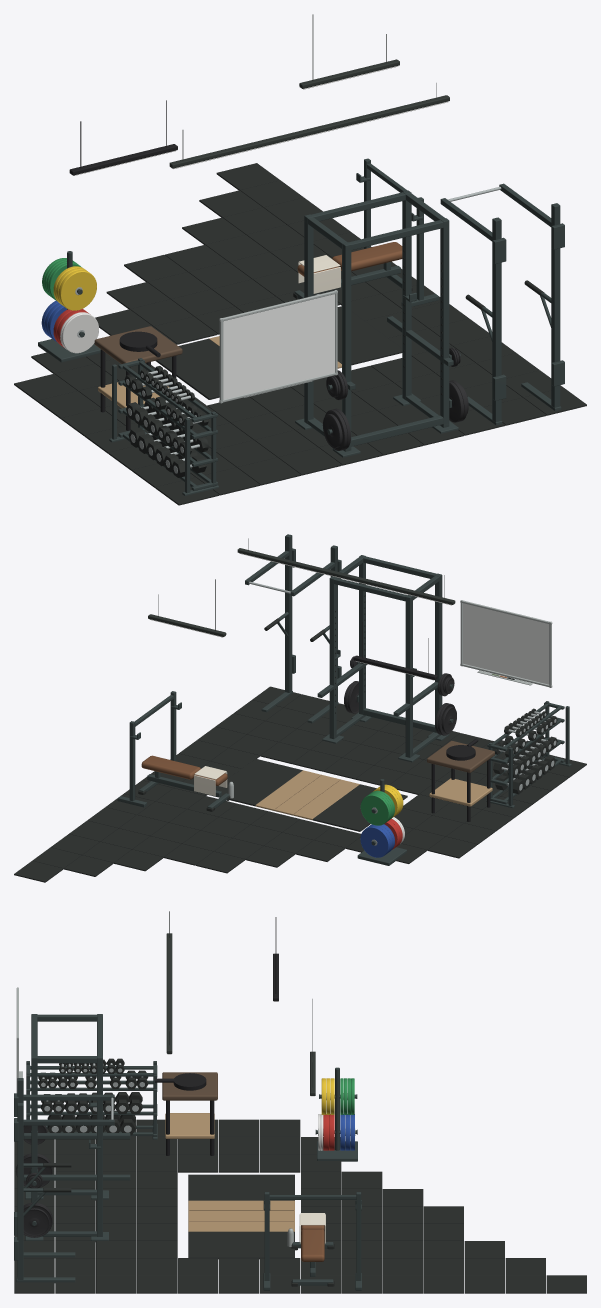
File: room-gym.glb
The picture shows the model from 3 angles, top to bottom: view 1: azimuth 30°, elevation 25°; view 2: azimuth 150°, elevation 25°; view 3: azimuth 270°, elevation 25°; orthographic projection. The views are drawn at different scales.
Parts seen in each view (by area): view 1: gym__gym rubber, gym__powder coated gym steel, gym_whiteboard_face, gym__charcoal, gym__cast iron plate, gym_pan_station__matte black device, gym__satin appliance stainless, gym_pan_station__honey ash, gym__yellow bumper rubber, gym__barbell brushed steel, gym__white bumper rubber, gym_bench_backrest (+2 smaller); view 2: gym__gym rubber, gym__powder coated gym steel, gym_whiteboard_face, gym__pale oak, gym__charcoal, gym__cast iron plate, gym__satin appliance stainless, gym_pan_station__matte black device, gym_pan_station__pale oak, gym_pan_station__honey ash, gym__barbell brushed steel, gym__green bumper rubber (+3 smaller); view 3: gym__gym rubber, gym__powder coated gym steel, gym__pale oak, gym__cast iron plate, gym__charcoal, gym_pan_station__honey ash, gym_pan_station__pale oak, gym__barbell brushed steel, gym_pan_station__matte black device, gym_bench_backrest, gym_placeholder_gym-pan, gym__green bumper rubber (+2 smaller).
Part boxes in pixels (box(x1,y1,x2,y2)): gym__gym rubber: box(14, 163, 586, 505); gym__powder coated gym steel: box(38, 158, 564, 495); gym_whiteboard_face: box(223, 294, 334, 399); gym__charcoal: box(169, 14, 449, 168); gym__cast iron plate: box(323, 347, 468, 450); gym_pan_station__matte black device: box(69, 100, 177, 430); gym__satin appliance stainless: box(219, 290, 337, 403); gym_pan_station__honey ash: box(94, 326, 182, 363); gym__yellow bumper rubber: box(53, 266, 96, 310); gym__barbell brushed steel: box(75, 186, 501, 473); gym__white bumper rubber: box(60, 312, 98, 353); gym_bench_backrest: box(332, 242, 402, 271); gym__gym rubber: box(14, 595, 586, 882); gym__powder coated gym steel: box(117, 534, 571, 865); gym_whiteboard_face: box(463, 603, 549, 684); gym__pale oak: box(255, 770, 359, 820); gym__charcoal: box(148, 538, 514, 679); gym__cast iron plate: box(344, 655, 456, 735); gym__satin appliance stainless: box(228, 600, 552, 798); gym_pan_station__matte black device: box(353, 622, 490, 821); gym_pan_station__pale oak: box(429, 778, 492, 806); gym_pan_station__honey ash: box(427, 740, 494, 772); gym__barbell brushed steel: box(249, 581, 556, 845); gym__green bumper rubber: box(360, 790, 394, 825); gym__gym rubber: box(14, 1058, 586, 1293); gym__powder coated gym steel: box(14, 1014, 361, 1290); gym__pale oak: box(188, 1200, 294, 1231); gym__cast iron plate: box(16, 1125, 52, 1237); gym__charcoal: box(166, 911, 315, 1095); gym_pan_station__honey ash: box(162, 1072, 217, 1100); gym_pan_station__pale oak: box(165, 1113, 214, 1138); gym__barbell brushed steel: box(41, 1063, 355, 1135); gym_pan_station__matte black device: box(166, 917, 278, 1155); gym_bench_backrest: box(301, 1229, 324, 1261); gym_placeholder_gym-pan: box(155, 1073, 206, 1090); gym__green bumper rubber: box(340, 1078, 354, 1114).
Bounding box in the file's own units: 4.99 × 3.4 × 7.
